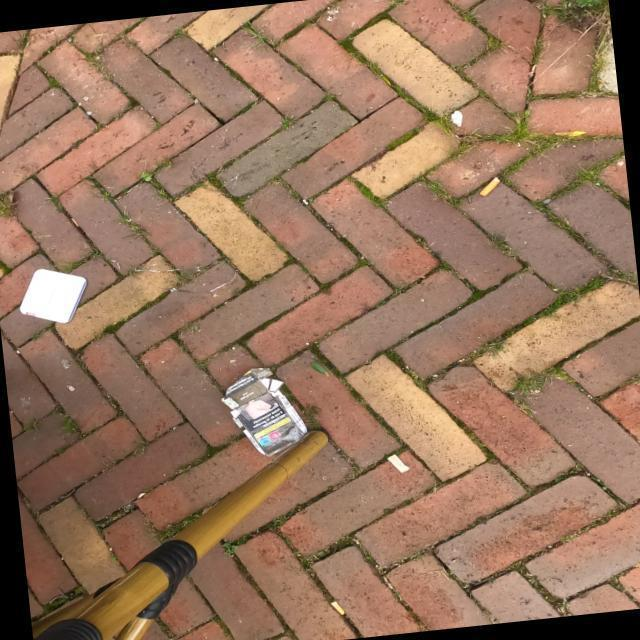Paper: (220, 367, 310, 460)
